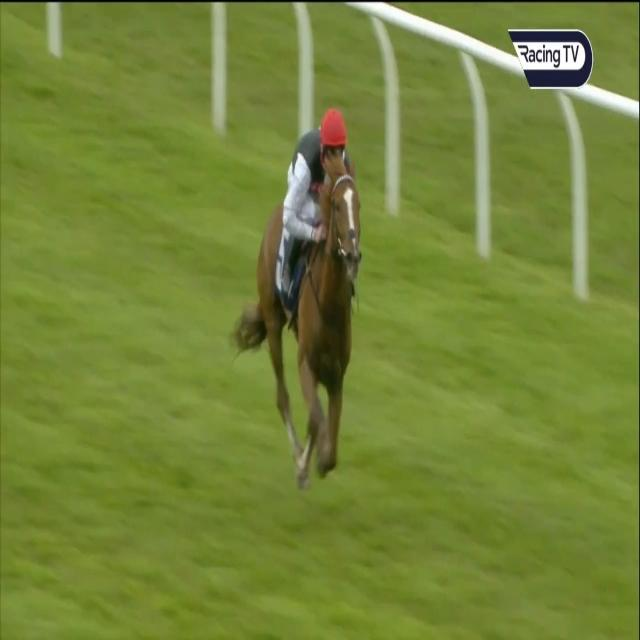horses-racing: (241, 104, 370, 475)
